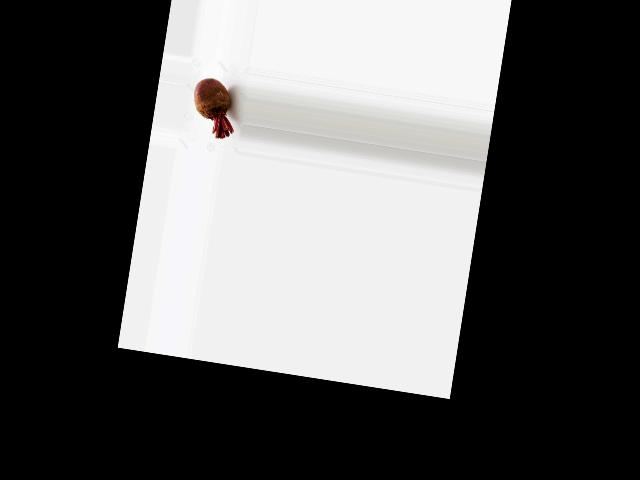beet: (188, 75, 241, 140)
